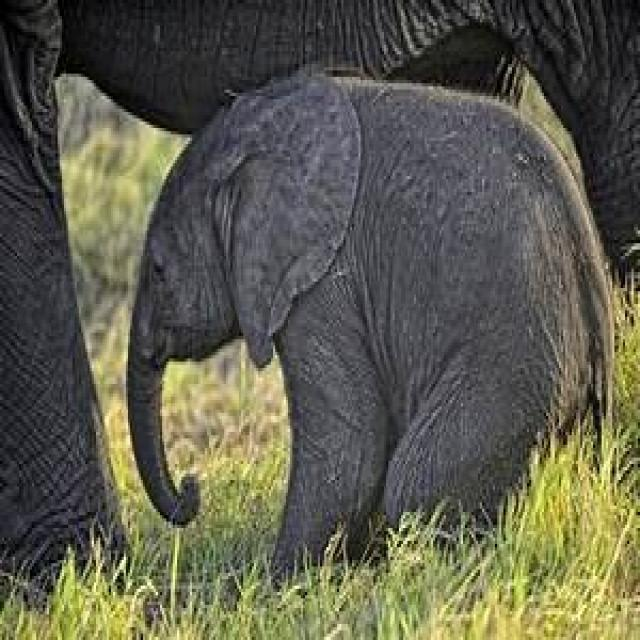elephant: (124, 70, 617, 586)
